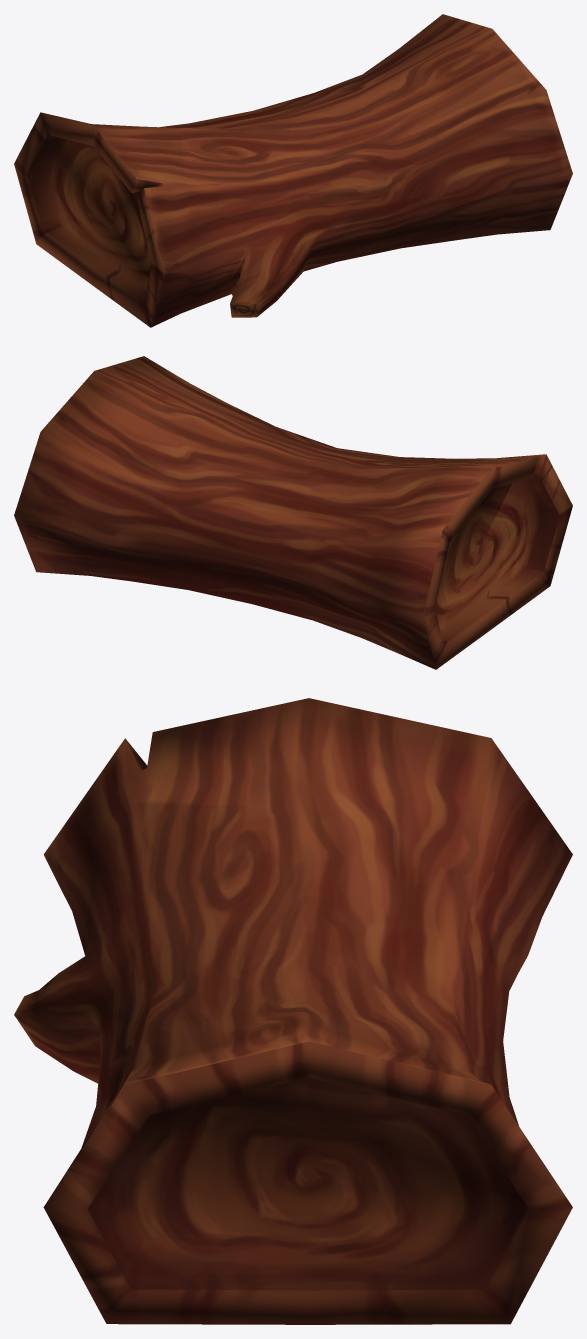
File: TreeHollow.fbx
The picture shows the model from 3 angles, top to bottom: view 1: azimuth 30°, elevation 25°; view 2: azimuth 150°, elevation 25°; view 3: azimuth 270°, elevation 25°; orthographic projection. The views are drawn at different scales.
Visible parts, largest first — view 1: TreeHollow; view 2: TreeHollow; view 3: TreeHollow.
Part boxes in pixels (x1,y1,x2,y2): TreeHollow: (14,14,572,327); TreeHollow: (14,356,572,669); TreeHollow: (14,698,572,1324).
Size of the model in its own units: 0.8398 by 0.3158 by 0.5623.
1 material, 1 textured.
